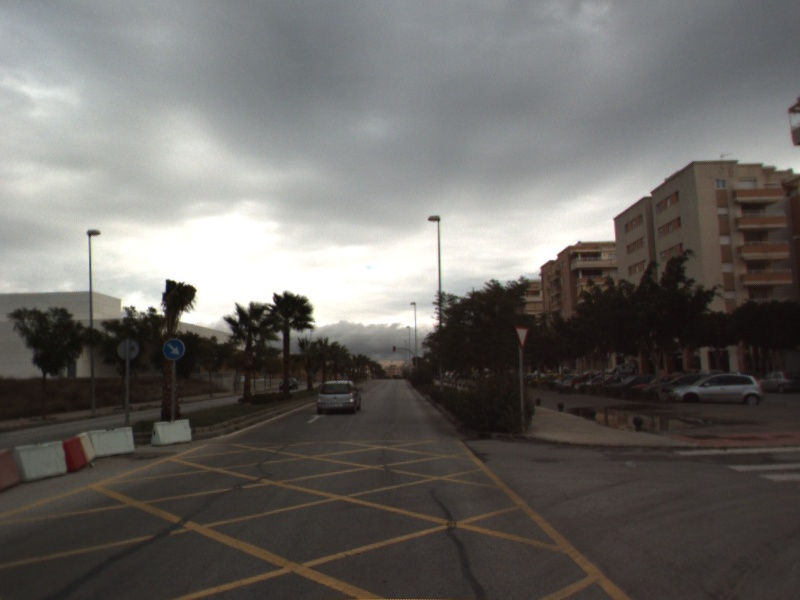STRAIGHT: (305, 412, 330, 424)
